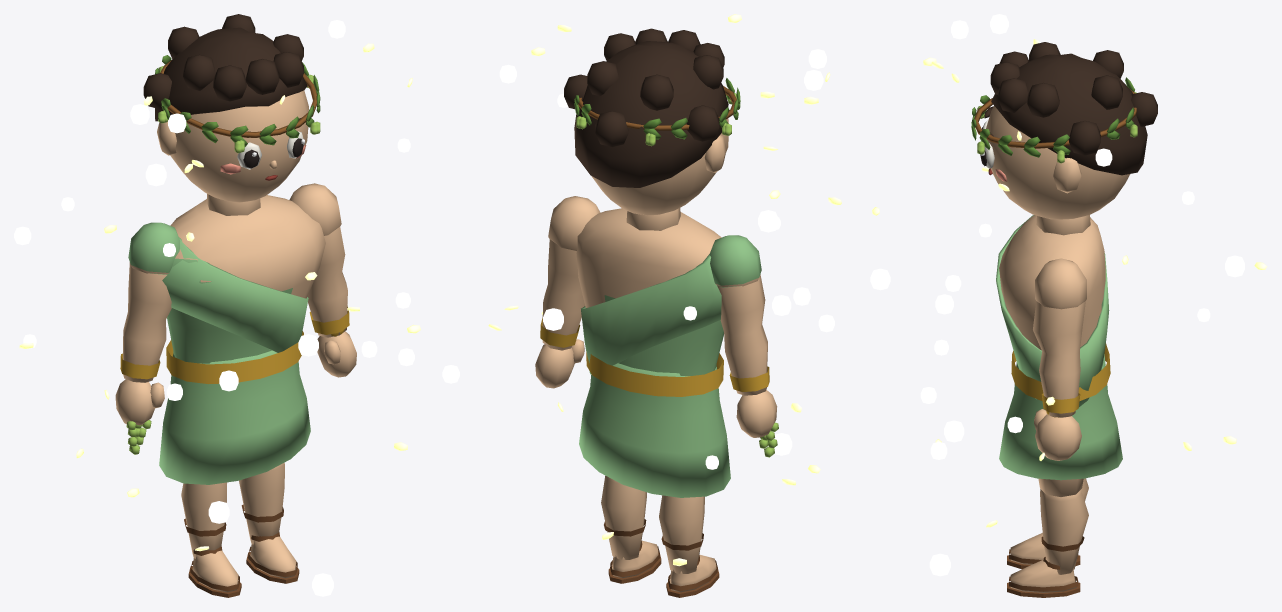
The model's file is dionysos.glb.
3 renders of one model, left to right at view 1: azimuth 30°, elevation 25°; view 2: azimuth 150°, elevation 25°; view 3: azimuth 270°, elevation 25°, orthographic. The views are drawn at different scales.
Visible parts, largest first — view 1: rumpf, huefte, haare, kopf, armL, armR, knieR, knieL, kopfschmuck, vfx_blasen_1, vfx_blasen_2, vfx_blasen_0; view 2: rumpf, haare, huefte, armL, armR, kopf, knieL, knieR, kopfschmuck, vfx_blasen_2, vfx_blasen_1, vfx_blasen_0 (+2 smaller); view 3: haare, rumpf, armR, kopf, huefte, knieR, kopfschmuck, vfx_blasen_0, vfx_blasen_2, vfx_blasen_1, knieL, beinR.
Boxes of the visible parts, x1=… form: rumpf: x1=162, y1=195, x2=325, y2=384; huefte: x1=159, y1=350, x2=310, y2=484; haare: x1=143, y1=14, x2=307, y2=121; kopf: x1=157, y1=90, x2=308, y2=215; armL: x1=115, y1=222, x2=180, y2=425; armR: x1=289, y1=183, x2=356, y2=377; knieR: x1=239, y1=462, x2=299, y2=583; knieL: x1=181, y1=482, x2=241, y2=597; kopfschmuck: x1=155, y1=55, x2=320, y2=153; vfx_blasen_1: x1=14, y1=104, x2=414, y2=596; vfx_blasen_2: x1=163, y1=138, x2=410, y2=523; vfx_blasen_0: x1=23, y1=20, x2=459, y2=400; rumpf: x1=576, y1=208, x2=723, y2=396; haare: x1=564, y1=28, x2=728, y2=187; huefte: x1=579, y1=363, x2=730, y2=497; armL: x1=709, y1=235, x2=777, y2=437; armR: x1=535, y1=196, x2=600, y2=388; kopf: x1=591, y1=118, x2=728, y2=230; knieL: x1=659, y1=495, x2=719, y2=597; knieR: x1=601, y1=475, x2=661, y2=583; kopfschmuck: x1=574, y1=78, x2=740, y2=146; vfx_blasen_2: x1=557, y1=93, x2=792, y2=455; vfx_blasen_1: x1=683, y1=49, x2=826, y2=320; vfx_blasen_0: x1=499, y1=64, x2=834, y2=469; haare: x1=990, y1=42, x2=1157, y2=175; rumpf: x1=996, y1=215, x2=1110, y2=407; armR: x1=1033, y1=258, x2=1086, y2=460; kopf: x1=986, y1=105, x2=1130, y2=235; huefte: x1=999, y1=354, x2=1122, y2=480; knieR: x1=1007, y1=489, x2=1088, y2=597; kopfschmuck: x1=971, y1=77, x2=1137, y2=163; vfx_blasen_0: x1=930, y1=148, x2=1244, y2=459; vfx_blasen_2: x1=870, y1=223, x2=991, y2=442; vfx_blasen_1: x1=920, y1=14, x2=1194, y2=576; knieL: x1=1007, y1=478, x2=1088, y2=568; beinR: x1=1038, y1=478, x2=1083, y2=496.
Size of the model in its own units: 1.64 by 2.3 by 1.6.
